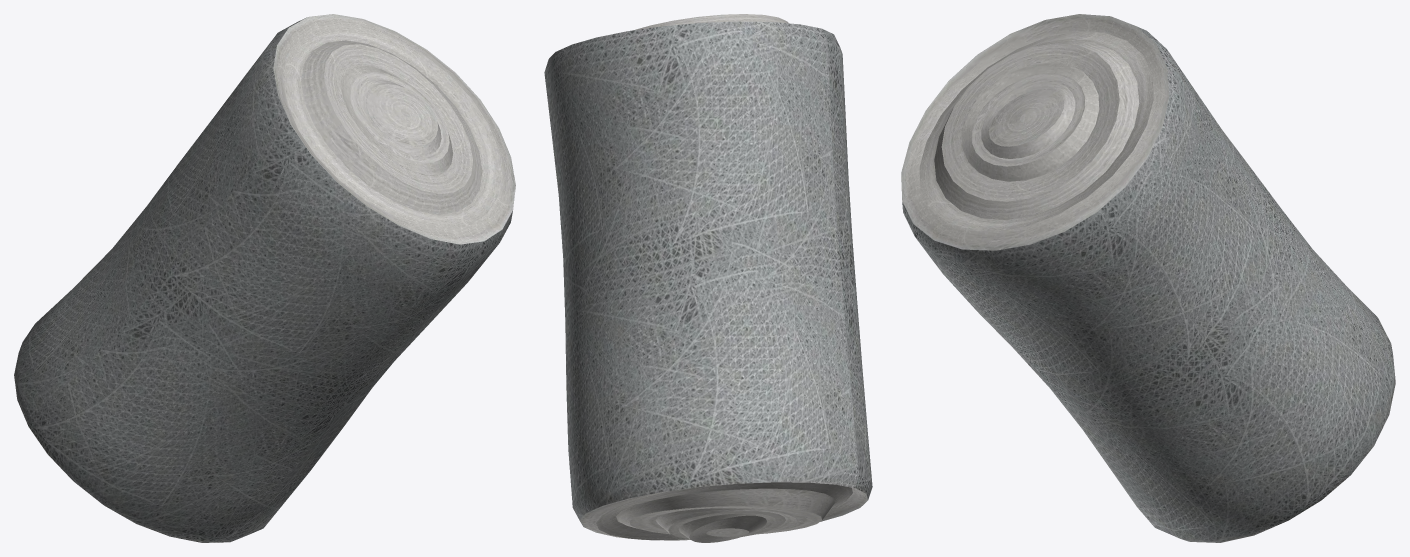
Rendered from bande.glb.
3 views of the same model, side by side, from view 1: azimuth 30°, elevation 25°; view 2: azimuth 150°, elevation 25°; view 3: azimuth 270°, elevation 25° (orthographic). The views are drawn at different scales.
Visible parts, largest first — view 1: bande; view 2: bande; view 3: bande.
Part boxes in pixels (x1,y1,x2,y2): bande: (14,14,515,542); bande: (544,14,872,542); bande: (901,14,1395,542).
Size of the model in its own units: 0.063 by 0.08 by 0.0694.
1 material, 1 textured.
